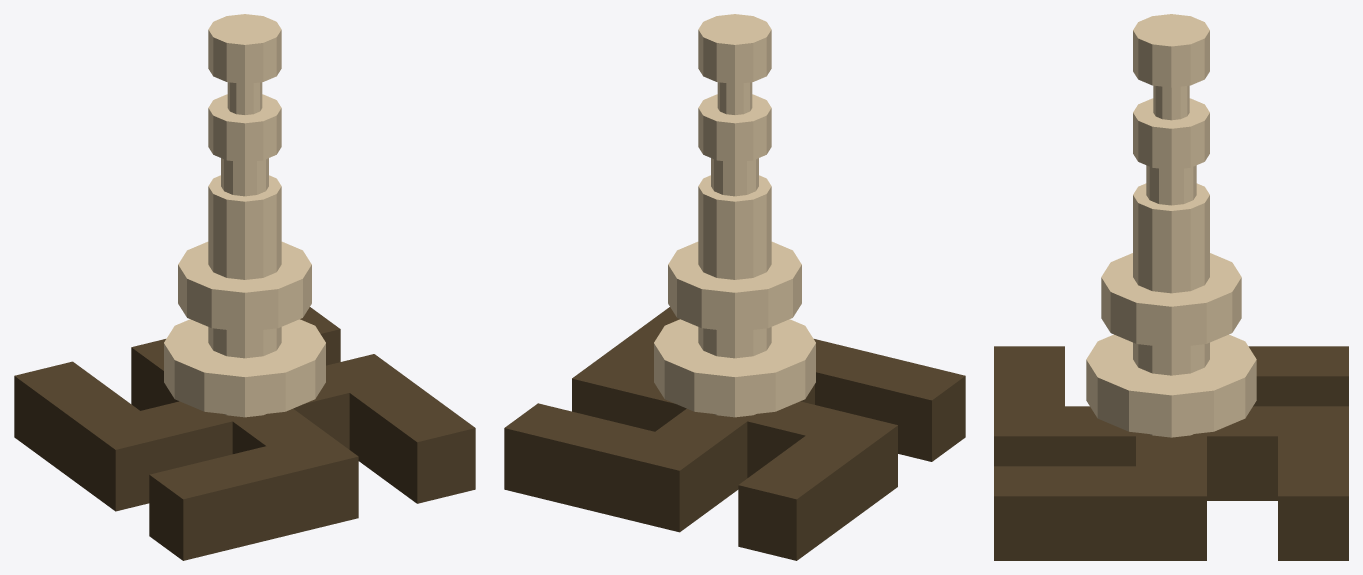
The model's file is Attachable_Swastika.fbx.
3 renders of one model, left to right at view 1: azimuth 30°, elevation 25°; view 2: azimuth 150°, elevation 25°; view 3: azimuth 270°, elevation 25°, orthographic. The views are drawn at different scales.
Parts seen in each view (by area): view 1: Attachable_Swastika; view 2: Attachable_Swastika; view 3: Attachable_Swastika.
Boxes of the visible parts, x1=… form: Attachable_Swastika: x1=14, y1=14, x2=475, y2=560; Attachable_Swastika: x1=504, y1=14, x2=965, y2=560; Attachable_Swastika: x1=994, y1=14, x2=1348, y2=560.
Bounding box in the file's own units: 49.71 × 70.47 × 49.71.
